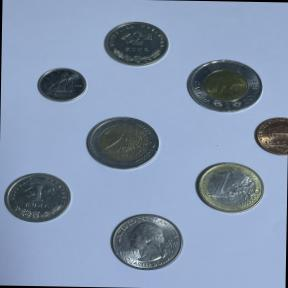1 Euro: (191, 158, 268, 218)
2 Euro: (79, 113, 166, 175)
Canda-10cent-: (33, 66, 91, 106)
Canda-2Dollar-: (183, 55, 267, 119)
Croatia-2Kune-: (99, 18, 174, 70)
US-1cent-: (252, 114, 288, 160)
US-25cent-: (104, 210, 188, 274)
